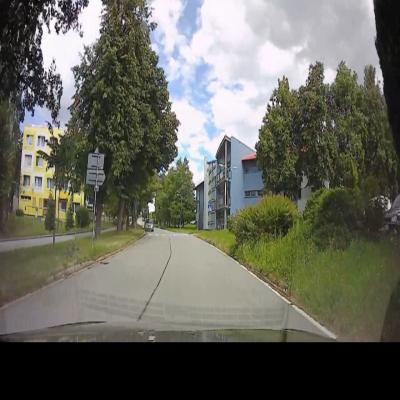clear-road: (101, 229, 256, 301)
